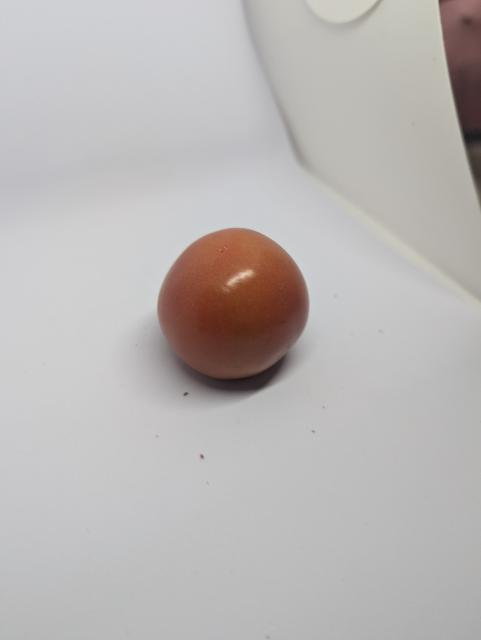red: (148, 219, 318, 386)
